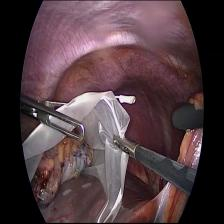Grasper: (40, 93, 88, 147), (113, 134, 138, 158)
Specimen Bag: (25, 85, 141, 224)
